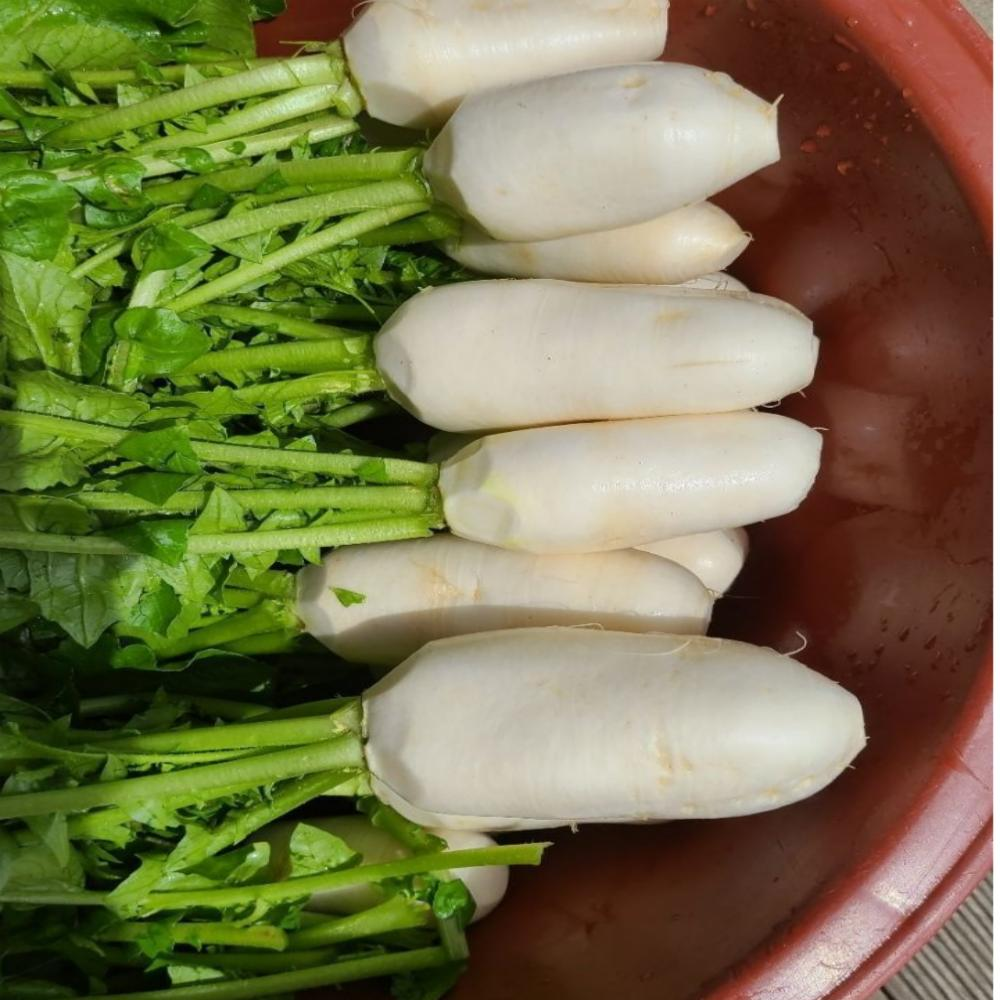radish: (578, 436, 1000, 658)
